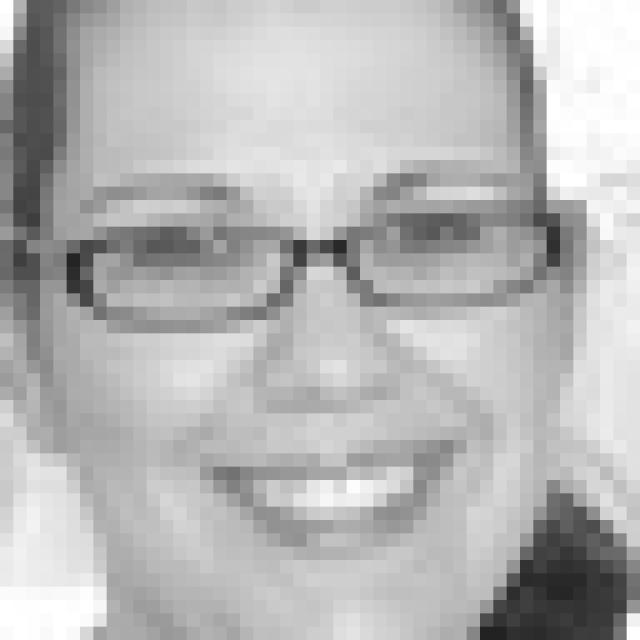happy: (75, 173, 532, 566)
